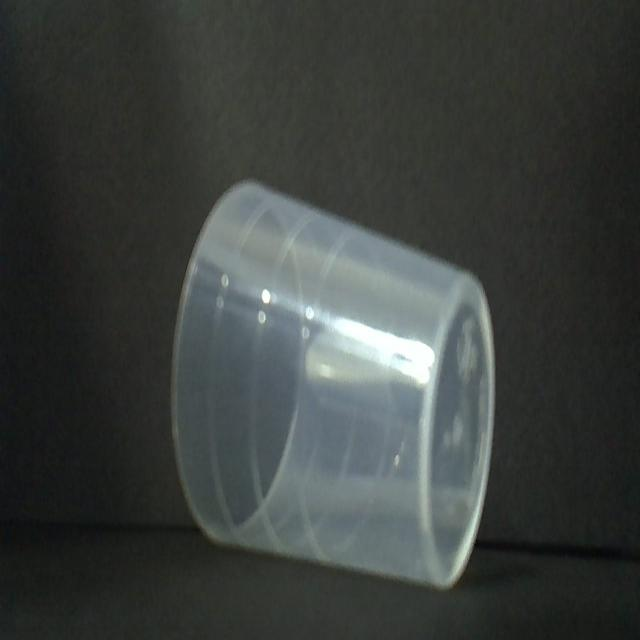cup: (168, 170, 501, 591)
